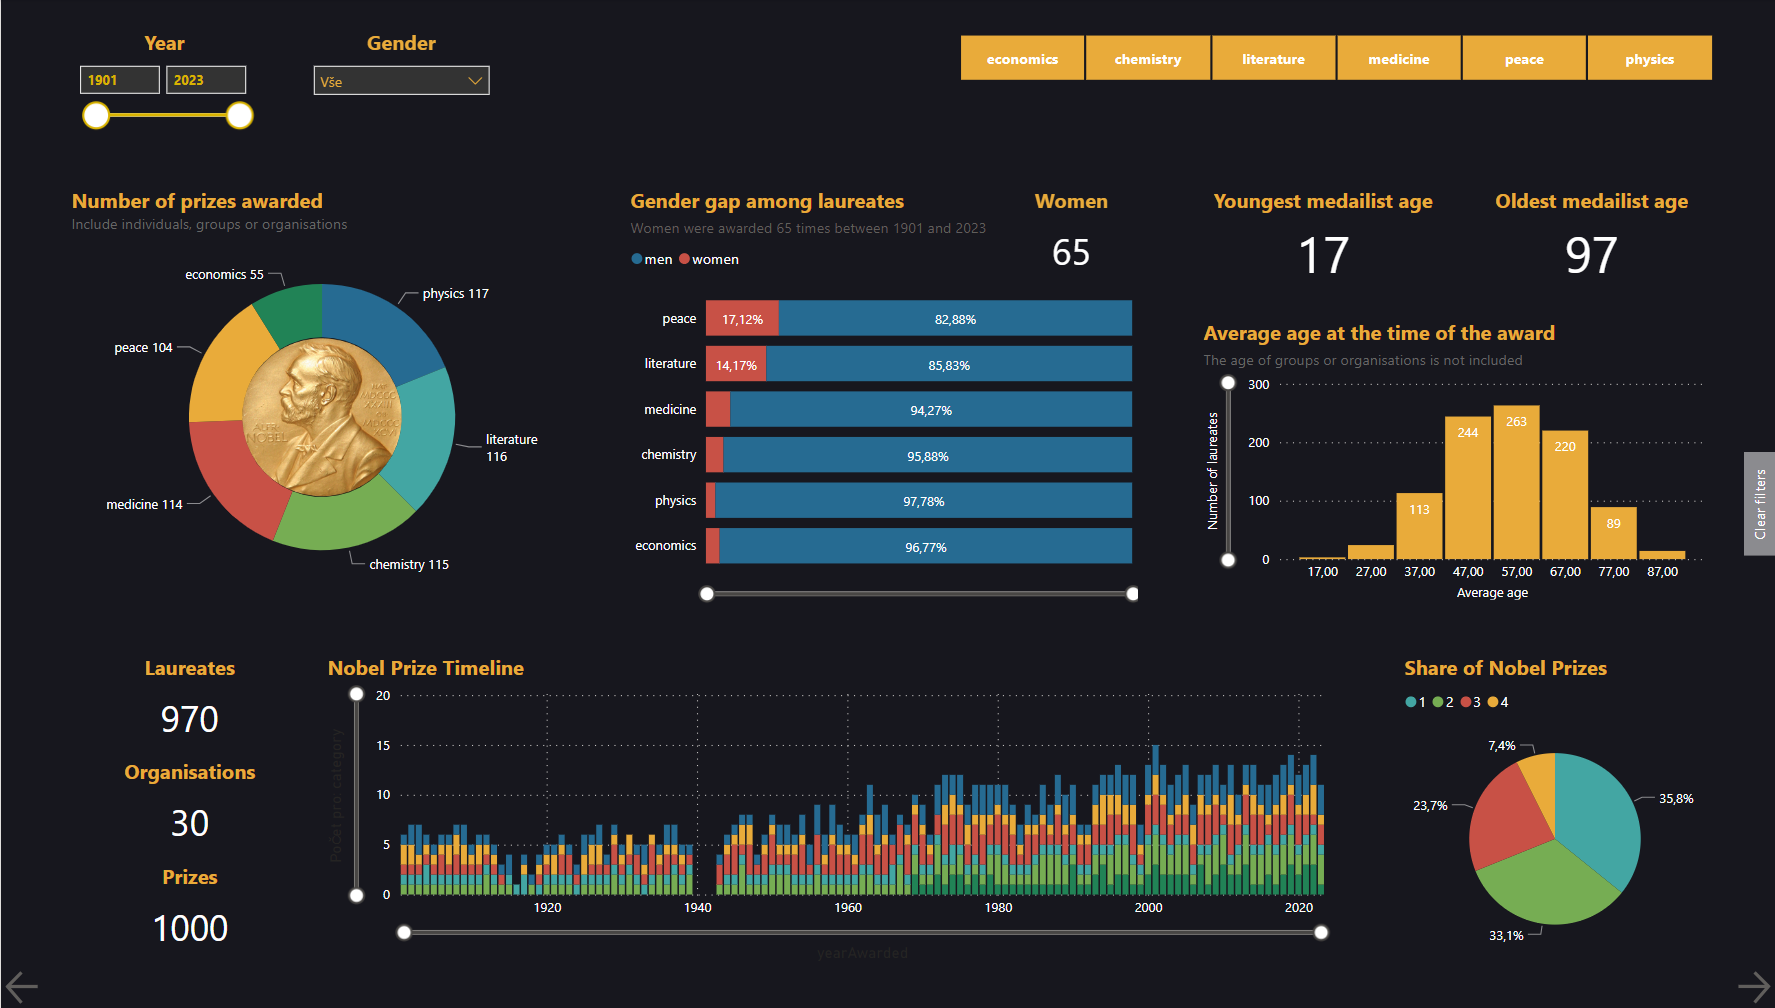

Layout of this report page (visuals, bound fields, positions):
{"tool":"powerbi","page":{"name":"Nobel Prize 1","canvas":[1644,936],"ordinal":1},"visuals":[{"type":"image","box":[184.7,295.7,227.2,185.8],"z":0,"group":"g1"},{"type":"group","id":"g1","title":"Skupina 1","box":[59.8,173.1,475,389.1],"z":0},{"type":"donutChart","title":"Number of prizes awarded","fields":{"Category":["NobelPrizeWinners19012023.category"],"Y":["Count(NobelPrizeWinners19012023.year)"]},"box":[59.8,173.1,474.6,389.4],"z":1000,"group":"g1"},{"type":"columnChart","title":"Average age at the time of the award","fields":{"Category":["NobelPrizeWinners.ageAwardedGroup"],"Y":["CountNonNull(NobelPrizeWinners.laureateID)"]},"box":[1109.4,295.9,474.9,266.4],"z":1000},{"type":"hundredPercentStackedBarChart","title":"Gender gap among laureates","fields":{"Category":["NobelPrizeWinners.category"],"Y":["NobelPrizeWinners.men","NobelPrizeWinners.women"]},"box":[578.4,173.1,475,389],"z":2000},{"type":"columnChart","title":"Nobel Prize Timeline","fields":{"Y":["CountNonNull(NobelPrizeWinners.category)"],"Category":["NobelPrizeWinners.year"],"Series":["NobelPrizeWinners.category"]},"box":[297.5,606,945.6,290.8],"z":3000},{"type":"pieChart","title":"Share of Nobel Prizes","fields":{"Category":["NobelPrizeWinners.prizeShare"],"Y":["CountNonNull(NobelPrizeWinners.prizeShare)"]},"box":[1295.2,606,289.1,290.8],"z":4000},{"type":"card","title":"Oldest medailist age","fields":{"Values":["NobelPrizeWinners.Maximum míry ageAwarded na kategorii ageAwarded"]},"box":[1364.1,173.1,220.2,96.7],"z":5000},{"type":"card","title":"Youngest medailist age","fields":{"Values":["NobelPrizeWinners.ageAwardedMin"]},"box":[1109.4,173.1,232,96.7],"z":6000},{"type":"card","title":"Laureates","fields":{"Values":["NobelPrizeWinners.laureates"]},"box":[59.7,606,231,96.7],"z":7000},{"type":"card","title":"Prizes","fields":{"Values":["NobelPrizeWinners.prizes"]},"box":[59.7,800.1,231.1,96.7],"z":8000},{"type":"card","title":"Organisations","fields":{"Values":["NobelPrizeWinners.organisations"]},"box":[59.7,702.7,231.1,96.7],"z":9000},{"type":"card","title":"Women","fields":{"Values":["NobelPrizeWinners.women"]},"box":[931.8,173.2,121.3,96.3],"z":10000},{"type":"slicer","title":"Year","fields":{"Values":["NobelPrizeWinners.yearAwarded"]},"box":[60.2,26.9,182.6,106.6],"z":11000},{"type":"slicer","title":"Category","fields":{"Values":["NobelPrizeWinners19012023.category"]},"box":[864,26.9,745.5,55.5],"z":12000},{"type":"slicer","title":"Gender","fields":{"Values":["NobelPrizeWinners.gender"]},"box":[279.9,26.9,182.6,106.6],"z":13000},{"type":"actionButton","box":[1604.2,896.1,39.8,39.8],"z":14000},{"type":"actionButton","box":[0,896.1,40,40],"z":15000},{"type":"actionButton","title":"Clear filter","box":[1615.3,419.6,28.7,96.3],"z":16000}]}

Visuals, with their boxes in screenshot pixels (x1, y1, x2, y2), scaled from the page's 1644x936 canvas onto the 1775x1008 screenshot:
image: [left=199, top=318, right=445, bottom=519]
"Skupina 1" group: [left=65, top=186, right=577, bottom=605]
"Number of prizes awarded" donutChart: [left=65, top=186, right=577, bottom=606]
"Average age at the time of the award" columnChart: [left=1198, top=319, right=1711, bottom=606]
"Gender gap among laureates" hundredPercentStackedBarChart: [left=624, top=186, right=1137, bottom=605]
"Nobel Prize Timeline" columnChart: [left=321, top=653, right=1342, bottom=966]
"Share of Nobel Prizes" pieChart: [left=1398, top=653, right=1711, bottom=966]
"Oldest medailist age" card: [left=1473, top=186, right=1711, bottom=291]
"Youngest medailist age" card: [left=1198, top=186, right=1448, bottom=291]
"Laureates" card: [left=64, top=653, right=314, bottom=757]
"Prizes" card: [left=64, top=862, right=314, bottom=966]
"Organisations" card: [left=64, top=757, right=314, bottom=861]
"Women" card: [left=1006, top=187, right=1137, bottom=290]
"Year" slicer: [left=65, top=29, right=262, bottom=144]
"Category" slicer: [left=933, top=29, right=1738, bottom=89]
"Gender" slicer: [left=302, top=29, right=499, bottom=144]
actionButton: [left=1732, top=965, right=1774, bottom=1007]
actionButton: [left=0, top=965, right=43, bottom=1007]
"Clear filter" actionButton: [left=1744, top=452, right=1774, bottom=556]
